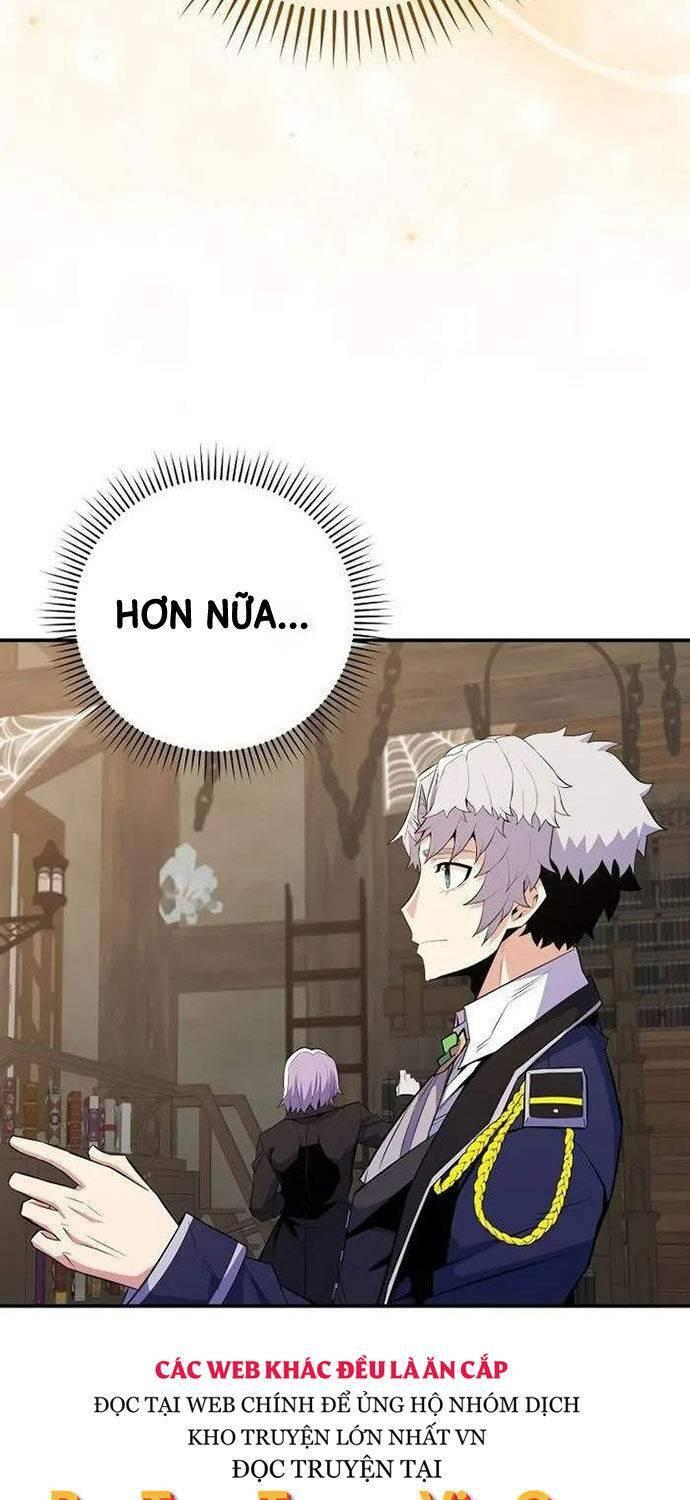quangcao: (50, 1334, 594, 1482)
